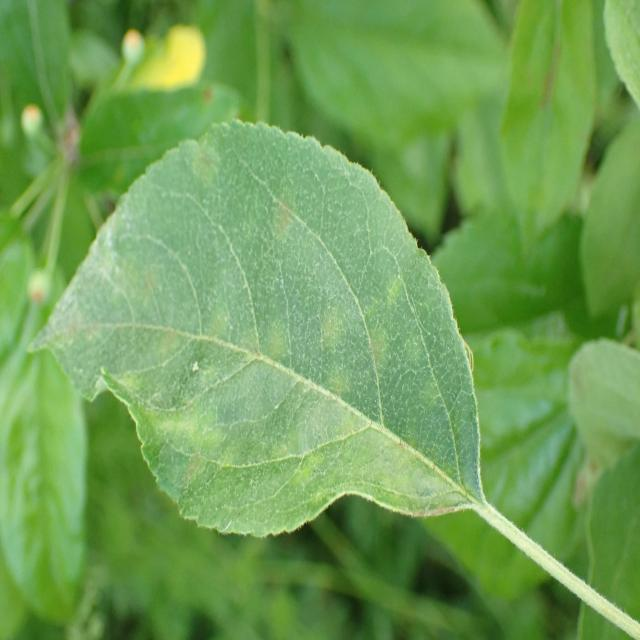scab: (57, 133, 485, 528)
